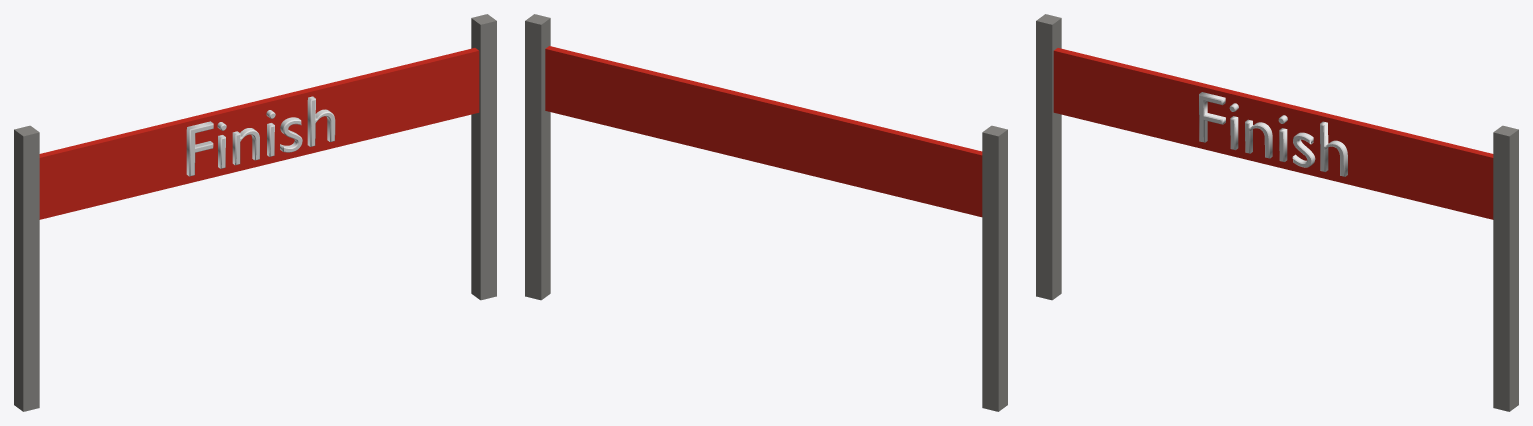
File: Racing Finish.fbx
The picture shows the model from 3 angles, left to right: view 1: azimuth 30°, elevation 25°; view 2: azimuth 150°, elevation 25°; view 3: azimuth 330°, elevation 25°; orthographic projection.
Parts seen in each view (by area): view 1: Cima, Laterais, Text; view 2: Cima, Laterais; view 3: Cima, Laterais, Text.
Part boxes in pixels (x1=…): Cima: x1=39, y1=48, x2=479, y2=219; Laterais: x1=14, y1=14, x2=496, y2=411; Text: x1=186, y1=96, x2=335, y2=176; Cima: x1=545, y1=46, x2=982, y2=217; Laterais: x1=525, y1=14, x2=1007, y2=411; Cima: x1=1053, y1=48, x2=1493, y2=219; Laterais: x1=1036, y1=14, x2=1518, y2=411; Text: x1=1199, y1=92, x2=1347, y2=176.
Bounding box in the file's own units: 1600 × 890 × 68.05.
